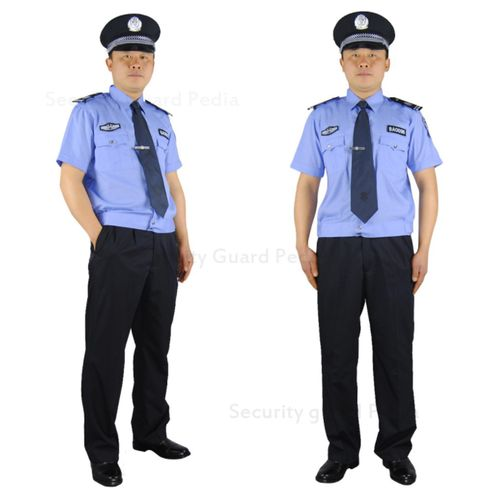uniform: (301, 75, 427, 446), (68, 85, 182, 436)
